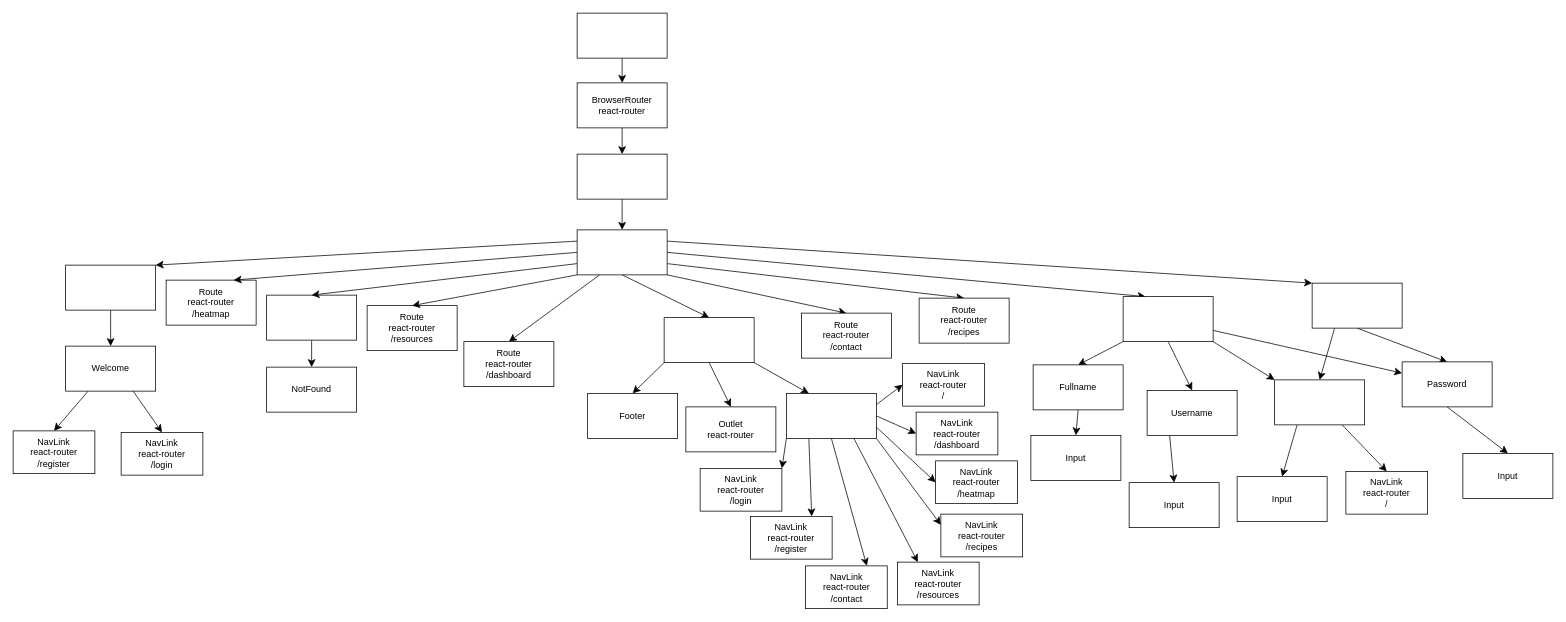
This 1566x622 diagram has some shape labels left out. Here are the shapes that lost their labels. From the top down, the centre of each, then its label:
At point 621,35: "App".
At point 621,176: "Routes react-router".
At point 621,252: "Route react-router /".
At point 110,287: "Route react-router index".
At point 1356,305: "Route react-router /login".
At point 311,317: "Route react-router *".
At point 1167,319: "Route react-router /register".
At point 708,340: "Layout".
At point 831,415: "Header".
At point 1319,402: "Submit".
